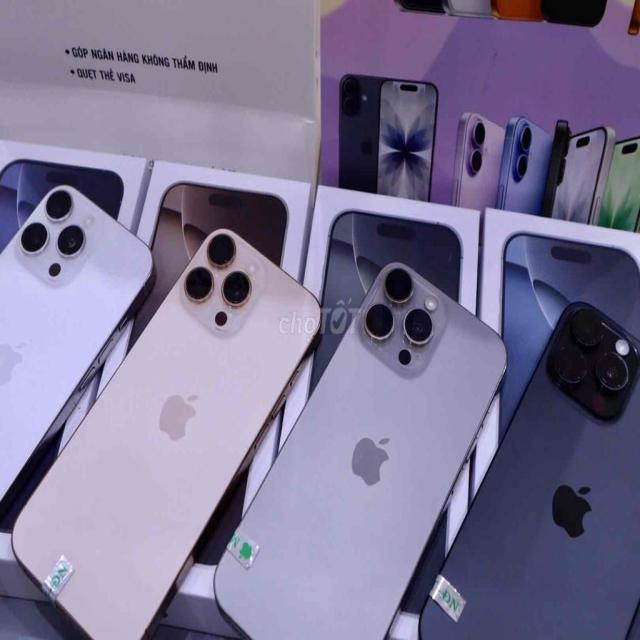gen_16: (12, 230, 322, 639), (214, 263, 507, 639), (419, 302, 639, 639), (0, 188, 152, 472)
